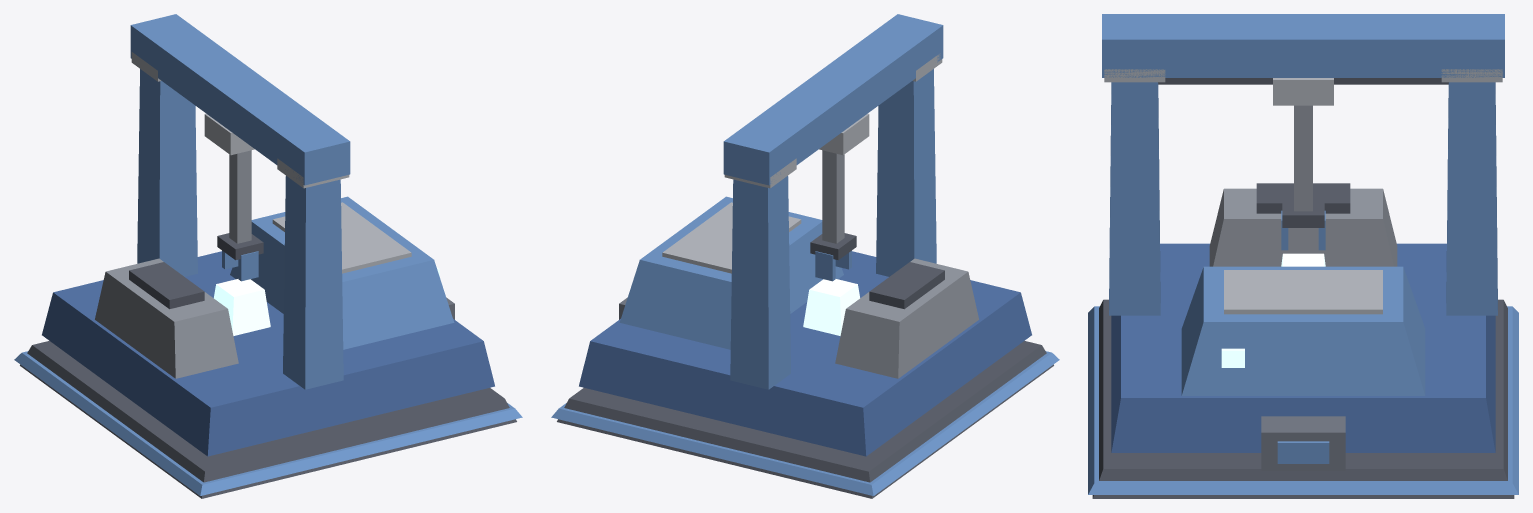
The model's file is assembler.glb.
3 views of the same model, side by side, from view 1: azimuth 30°, elevation 25°; view 2: azimuth 150°, elevation 25°; view 3: azimuth 270°, elevation 25° (orthographic). The views are drawn at different scales.
Visible parts, largest first — view 1: Body, ArmMesh, GlowItem; view 2: Body, ArmMesh, GlowItem; view 3: Body, ArmMesh, GlowItem, GlowLight.
Part boxes in pixels (x1,y1,x2,y2): Body: (14,14,522,498); ArmMesh: (204,113,263,281); GlowItem: (214,279,270,335); Body: (551,14,1059,498); ArmMesh: (810,113,869,281); GlowItem: (803,279,859,335); Body: (1088,14,1518,498); ArmMesh: (1273,78,1333,250); GlowItem: (1281,253,1325,266); GlowLight: (1221,348,1244,367).
Bounding box in the file's own units: 0.948 × 0.865 × 0.92.
